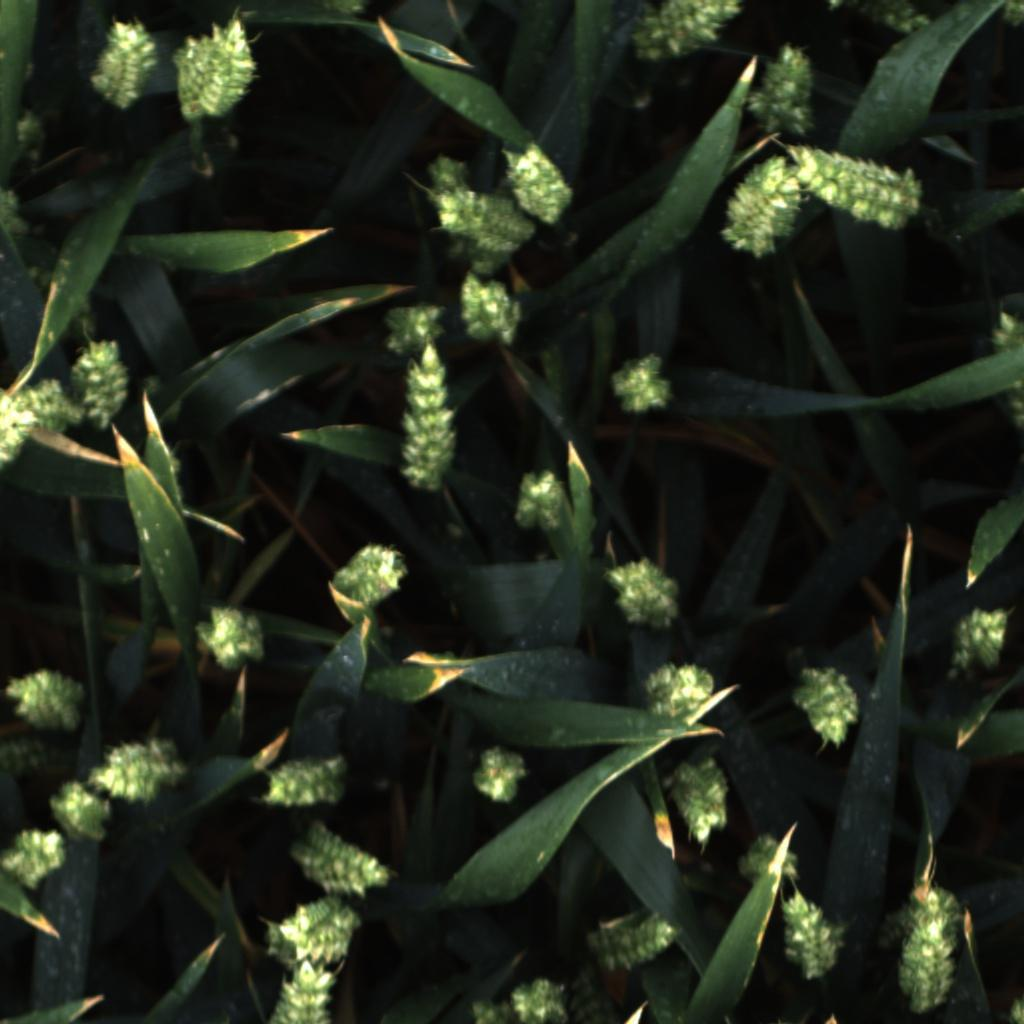0-0: (785, 140, 934, 236), (167, 18, 269, 124), (395, 341, 463, 499), (291, 816, 399, 905), (716, 155, 806, 258), (429, 184, 536, 258), (86, 732, 189, 806), (268, 887, 366, 964), (83, 18, 163, 112), (596, 553, 689, 633), (744, 42, 823, 136), (790, 662, 869, 754), (663, 755, 741, 845), (629, 0, 744, 60), (776, 892, 849, 986), (587, 905, 685, 974), (324, 538, 411, 614), (638, 650, 723, 727), (8, 362, 82, 449), (4, 662, 92, 734), (505, 142, 576, 225), (72, 333, 133, 429), (259, 756, 357, 815), (195, 599, 270, 676), (893, 926, 955, 1018), (504, 462, 578, 538), (605, 345, 679, 419), (456, 269, 523, 350), (45, 775, 118, 847), (940, 603, 1014, 674), (260, 960, 338, 1024), (989, 306, 1024, 438), (0, 825, 70, 888), (469, 737, 533, 805), (383, 297, 451, 358), (738, 830, 802, 894), (565, 959, 624, 1024), (904, 883, 964, 945), (0, 381, 38, 476), (507, 969, 571, 1024), (853, 0, 932, 37), (0, 741, 45, 796), (423, 153, 472, 199), (466, 242, 513, 275), (0, 186, 29, 235), (13, 114, 46, 152), (469, 997, 512, 1023), (139, 371, 166, 399), (322, 0, 368, 16), (1001, 0, 1024, 27)
